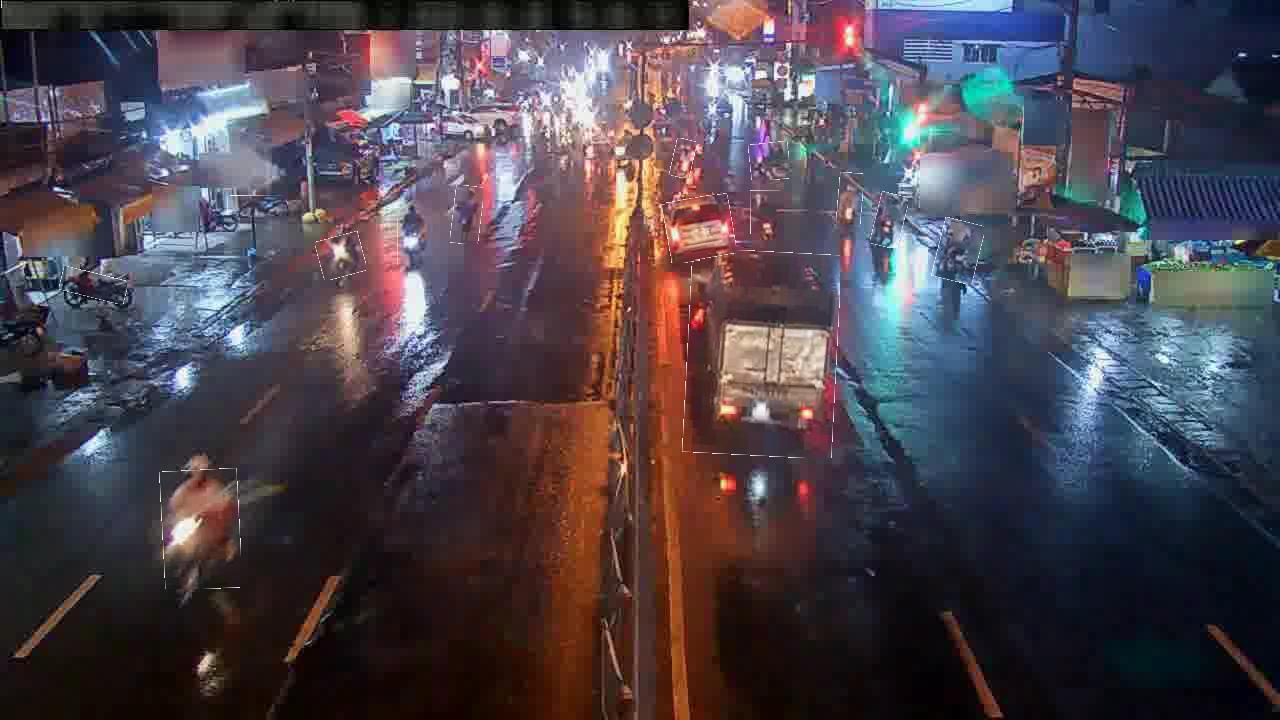8: (685, 250, 839, 458)
container: (665, 196, 735, 262)
motorbike: (161, 469, 241, 590), (935, 219, 982, 283), (60, 270, 128, 302), (317, 234, 365, 279), (397, 218, 438, 266), (873, 193, 907, 248), (452, 186, 482, 245), (749, 142, 790, 181), (837, 173, 863, 228), (750, 190, 781, 235), (227, 196, 288, 214), (671, 139, 695, 179)
